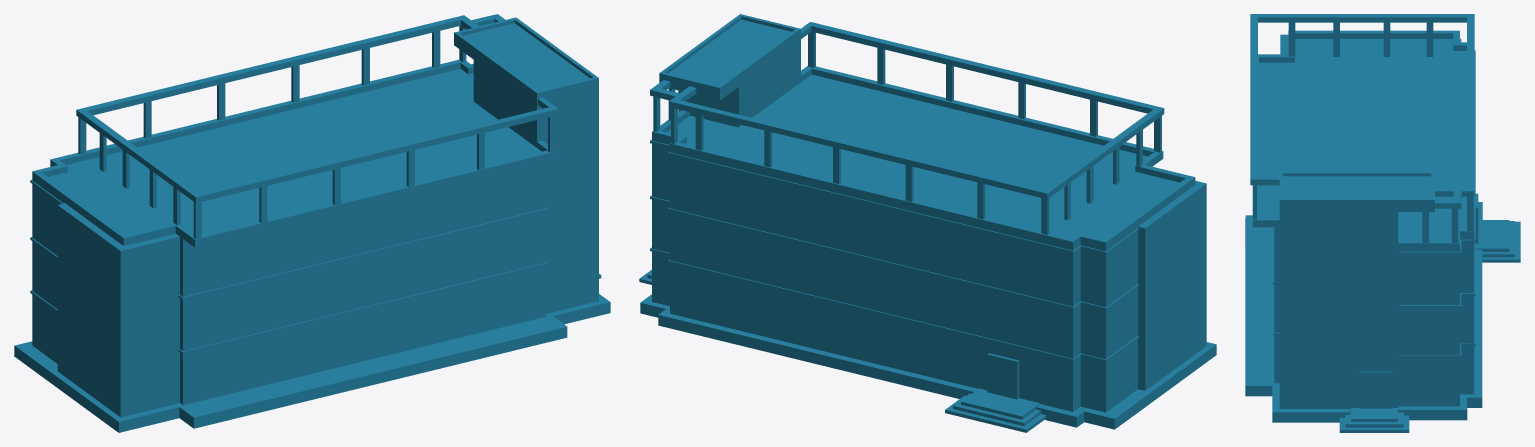
Rendered from yq_sushelou01.glb.
3 views of the same model, side by side, from view 1: azimuth 30°, elevation 25°; view 2: azimuth 150°, elevation 25°; view 3: azimuth 270°, elevation 25° (orthographic). The views are drawn at different scales.
Parts seen in each view (by area): view 1: yq_shushelou0101, yq_shushelou0106, yq_shushelou0107, yq_shushelou0100; view 2: yq_shushelou0101, yq_shushelou0106, yq_shushelou0107, yq_shushelou0100, yq_shushelou0103, yq_shushelou0108, yq_shushelou0104; view 3: yq_shushelou0101, yq_shushelou0107, yq_shushelou0106, yq_shushelou0103, yq_shushelou0102, yq_shushelou0105, yq_shushelou0100, yq_shushelou0108.
Boxes of the visible parts, x1,y1,x2,y2 form: yq_shushelou0101: (32, 17, 598, 417); yq_shushelou0106: (76, 14, 558, 238); yq_shushelou0107: (14, 294, 610, 432); yq_shushelou0100: (30, 207, 547, 354); yq_shushelou0101: (652, 14, 1206, 412); yq_shushelou0106: (650, 22, 1164, 234); yq_shushelou0107: (640, 294, 1216, 429); yq_shushelou0100: (650, 195, 1138, 362); yq_shushelou0103: (945, 388, 1046, 432); yq_shushelou0108: (650, 139, 1138, 254); yq_shushelou0104: (987, 353, 1019, 399); yq_shushelou0101: (1252, 30, 1474, 410); yq_shushelou0107: (1245, 202, 1482, 422); yq_shushelou0106: (1250, 14, 1474, 242); yq_shushelou0103: (1475, 220, 1520, 262); yq_shushelou0102: (1339, 408, 1409, 432); yq_shushelou0105: (1359, 371, 1392, 408); yq_shushelou0100: (1273, 227, 1475, 357); yq_shushelou0108: (1398, 38, 1475, 254).
Size of the model in its own units: 29.65 by 12.79 by 14.55.
